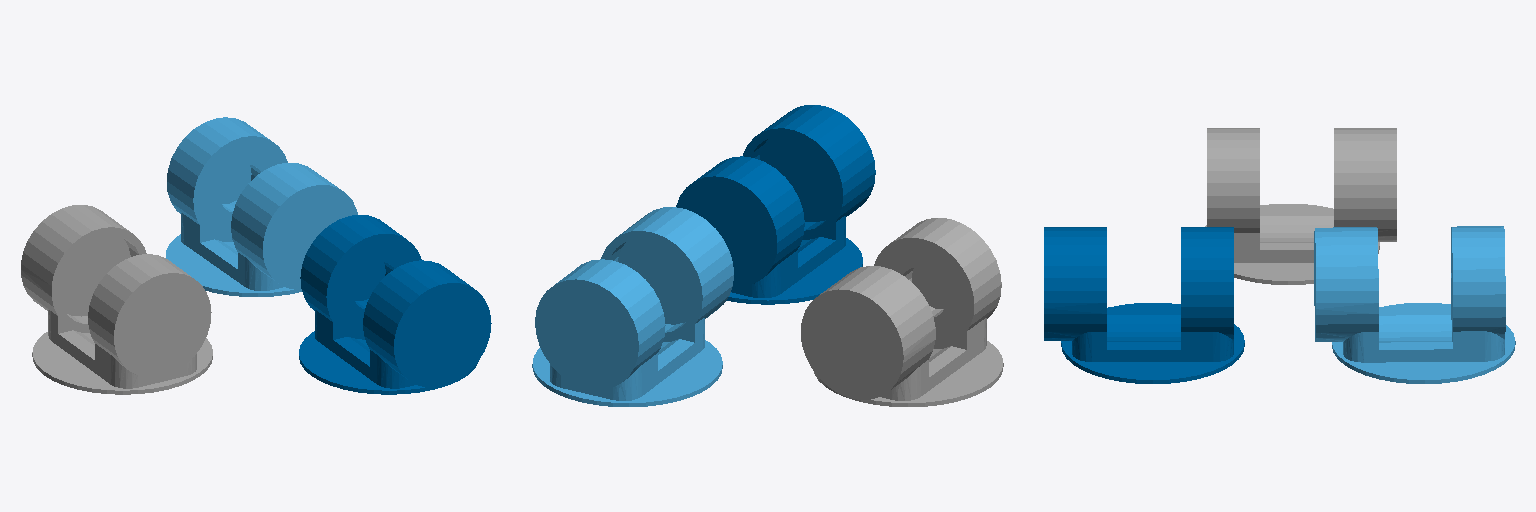
URDF robot description (sdh):
<?xml version="1.0"?>
<robot name="sdh"
	xmlns:sensor="http://playerstage.sourceforge.net/gazebo/xmlschema/#sensor"
	xmlns:controller="http://playerstage.sourceforge.net/gazebo/xmlschema/#controller"
	xmlns:interface="http://playerstage.sourceforge.net/gazebo/xmlschema/#interface">

	<!-- ################################################################################# -->
	<!-- add links-->
	
	<!-- palm -->
	<link name="link_palm">
		<inertial>
			<origin xyz="0 0 0" rpy="0 0 0"/>
			<mass value="1"/>
			<inertia ixx="1"  ixy="0"  ixz="0" iyy="1" iyz="0" izz="1" />
		</inertial>
		<visual>
			<origin xyz="0 0 0" rpy="0 0 0" />
			<geometry>
				<mesh filename="package://cob3_defs/common/files/meshes/palm.stl" />
			</geometry>
		</visual>
		<collision>
			<origin xyz="0 0 0" rpy="0 0 0" />
			<geometry>
				<mesh filename="package://cob3_defs/common/files/meshes/palm.stl"/>
			</geometry>
		</collision>
	</link>
	
	<!-- finger1 -->
	<link name="link_finger1-1">
		<inertial>
			<origin xyz="0 0 0" rpy="0 0 0"/>
			<mass value="0.1"/>
			<inertia ixx="1"  ixy="0"  ixz="0" iyy="1" iyz="0" izz="1" />
		</inertial>
		<visual>
			<origin xyz="0 0 0" rpy="0 0 0" />
			<geometry>
				<mesh filename="package://cob3_defs/common/files/meshes/knuckle.stl" />
			</geometry>
		</visual>
		<collision>
			<origin xyz="0 0 0" rpy="0 0 0" />
			<geometry>
				<mesh filename="package://cob3_defs/common/files/meshes/knuckle.stl"/>
			</geometry>
		</collision>
	</link>
	
	<link name="link_finger1-2">
		<inertial>
			<origin xyz="0 0 0" rpy="0 0 0"/>
			<mass value="0.1"/>
			<inertia ixx="1"  ixy="0"  ixz="0" iyy="1" iyz="0" izz="1" />
		</inertial>
		<visual>
			<origin xyz="0 0 0" rpy="0 0 0" />
			<geometry>
				<mesh filename="package://cob3_defs/common/files/meshes/finger.stl" />
			</geometry>
		</visual>
		<collision>
			<origin xyz="0 0 0" rpy="0 0 0" />
			<geometry>
				<mesh filename="package://cob3_defs/common/files/meshes/finger.stl"/>
			</geometry>
		</collision>
	</link>

	<link name="link_finger1-3">
		<inertial>
			<origin xyz="0 0 0" rpy="0 0 0"/>
			<mass value="0.1"/>
			<inertia ixx="1"  ixy="0"  ixz="0" iyy="1" iyz="0" izz="1" />
		</inertial>
		<visual>
			<origin xyz="0 0 0" rpy="0 0 0" />
			<geometry>
				<mesh filename="package://cob3_defs/common/files/meshes/finger_tip.stl" />
			</geometry>
		</visual>
		<collision>
			<origin xyz="0 0 0" rpy="0 0 0" />
			<geometry>
				<mesh filename="package://cob3_defs/common/files/meshes/finger_tip.stl"/>
			</geometry>
		</collision>
	</link>

	<!-- finger2 -->
	<link name="link_finger2-1">
		<inertial>
			<origin xyz="0 0 0" rpy="0 0 0"/>
			<mass value="0.1"/>
			<inertia ixx="1"  ixy="0"  ixz="0" iyy="1" iyz="0" izz="1" />
		</inertial>
		<visual>
			<origin xyz="0 0 0" rpy="0 0 0" />
			<geometry>
				<mesh filename="package://cob3_defs/common/files/meshes/knuckle.stl" />
			</geometry>
		</visual>
		<collision>
			<origin xyz="0 0 0" rpy="1.57079633 0 0" />
			<geometry>
				<mesh filename="package://cob3_defs/common/files/meshes/knuckle.stl"/>
			</geometry>
		</collision>
	</link>

	<link name="link_finger2-2">
		<inertial>
			<origin xyz="0 0 0" rpy="0 0 0"/>
			<mass value="0.1"/>
			<inertia ixx="1"  ixy="0"  ixz="0" iyy="1" iyz="0" izz="1" />
		</inertial>
		<visual>
			<origin xyz="0 0 0" rpy="0 0 0" />
			<geometry>
				<mesh filename="package://cob3_defs/common/files/meshes/finger.stl" />
			</geometry>
		</visual>
		<collision>
			<origin xyz="0 0 0" rpy="0 0 0" />
			<geometry>
				<mesh filename="package://cob3_defs/common/files/meshes/finger.stl"/>
			</geometry>
		</collision>
	</link>

	<link name="link_finger2-3">
		<inertial>
			<origin xyz="0 0 0" rpy="0 0 0"/>
			<mass value="0.1"/>
			<inertia ixx="1"  ixy="0"  ixz="0" iyy="1" iyz="0" izz="1" />
		</inertial>
		<visual>
			<origin xyz="0 0 0" rpy="0 0 0" />
			<geometry>
				<mesh filename="package://cob3_defs/common/files/meshes/finger_tip.stl" />
			</geometry>
		</visual>
		<collision>
			<origin xyz="0 0 0" rpy="0 0 0" />
			<geometry>
				<mesh filename="package://cob3_defs/common/files/meshes/finger_tip.stl"/>
			</geometry>
		</collision>
	</link>

	<!-- thumb -->
	<link name="link_thumb1">
		<inertial>
			<origin xyz="0 0 0" rpy="0 0 0"/>
			<mass value="0.1"/>
			<inertia ixx="1"  ixy="0"  ixz="0" iyy="1" iyz="0" izz="1" />
		</inertial>
		<visual>
			<origin xyz="0 0 0" rpy="0 0 0" />
			<geometry>
				<mesh filename="package://cob3_defs/common/files/meshes/knuckle.stl" />
			</geometry>
		</visual>
		<collision>
			<origin xyz="0 0 0" rpy="0 0 0" />
			<geometry>
				<mesh filename="package://cob3_defs/common/files/meshes/knuckle.stl"/>
			</geometry>
		</collision>
	</link>

	<link name="link_thumb2">
		<inertial>
			<origin xyz="0 0 0" rpy="0 0 0"/>
			<mass value="0.1"/>	
			<inertia ixx="1"  ixy="0"  ixz="0" iyy="1" iyz="0" izz="1" />
		</inertial>
		<visual>
			<origin xyz="0 0 0" rpy="0 0 0" />
			<geometry>
				<mesh filename="package://cob3_defs/common/files/meshes/finger.stl" />
			</geometry>
		</visual>
		<collision>
			<origin xyz="0 0 0" rpy="0 0 0" />
			<geometry>
				<mesh filename="package://cob3_defs/common/files/meshes/finger.stl"/>
			</geometry>
		</collision>
	</link>
	
	<link name="link_thumb3">
		<inertial>
			<origin xyz="0 0 0" rpy="0 0 0"/>
			<mass value="0.1"/>
			<inertia ixx="1"  ixy="0"  ixz="0" iyy="1" iyz="0" izz="1" />
		</inertial>
		<visual>
			<origin xyz="0 0 0" rpy="0 0 0" />
			<geometry>
				<mesh filename="package://cob3_defs/common/files/meshes/finger_tip.stl" />
			</geometry>
		</visual>
		<collision>
			<origin xyz="0 0 0" rpy="0 0 0" />
			<geometry>
				<mesh filename="package://cob3_defs/common/files/meshes/finger_tip.stl"/>
			</geometry>
		</collision>
	</link>
	
	<!-- define colors for links -->
	<gazebo reference="link_palm">
		<material>Gazebo/Grey</material>
		<turnGravityOff>false</turnGravityOff>
	</gazebo>
	
	<gazebo reference="link_finger1-1">
		<material>Gazebo/Black</material>
		<turnGravityOff>false</turnGravityOff>
	</gazebo>
	
	<gazebo reference="link_finger1-2">
		<material>Gazebo/Red</material>
		<turnGravityOff>false</turnGravityOff>
	</gazebo>
	
	<gazebo reference="link_finger1-3">
		<material>Gazebo/Blue</material>
		<turnGravityOff>false</turnGravityOff>
	</gazebo>

	<gazebo reference="link_finger2-1">
		<material>Gazebo/Black</material>
		<turnGravityOff>false</turnGravityOff>
	</gazebo>

	<gazebo reference="link_finger2-2">
		<material>Gazebo/Red</material>
		<turnGravityOff>false</turnGravityOff>
	</gazebo>

	<gazebo reference="link_finger2-3">
		<material>Gazebo/Blue</material>
		<turnGravityOff>false</turnGravityOff>
	</gazebo>

	<gazebo reference="link_thumb1">
		<material>Gazebo/Black</material>
		<turnGravityOff>false</turnGravityOff>
	</gazebo>
	
	<gazebo reference="link_thumb2">
		<material>Gazebo/Red</material>
		<turnGravityOff>false</turnGravityOff>
	</gazebo>

	<gazebo reference="link_thumb3">
		<material>Gazebo/Blue</material>
		<turnGravityOff>false</turnGravityOff>
	</gazebo>

	<!-- ################################################################################# -->
	<!-- add joints -->

	<!-- palm -->

	<!-- finger1 -->
	<joint name="joint_palm_finger1-1" type="revolute">
		<origin xyz="0.01905 0.033 0.0745" rpy="0 0 3.159265" />
		<parent link="link_palm"/>
		<child link="link_finger1-1"/>
		<axis xyz="0 0 1" />
	    <calibration reference_position="0.0"/>
		<limit effort="100" velocity="1.0" upper="0.5" lower="-0.5" /> <!-- rads. effort is N-m applied force. vel is rad/s. -->
	</joint>
 
	<joint name="joint_finger1-1_finger1-2" type="revolute">
		<origin xyz="0 0 0.0165" rpy="0 0 0" />
		<parent link="link_finger1-1"/>
		<child link="link_finger1-2"/>
		<axis xyz="0 1 0" />
	    <calibration reference_position="0.0"/>
		<limit effort="100" velocity="1.0" upper="0.5" lower="-0.5" /> <!-- rads. effort is N-m applied force. vel is rad/s. -->
	</joint>
 
	<joint name="joint_finger1-2_finger1-3" type="revolute">
		<origin xyz="0 0 0.0865" rpy="0 0 0" />
		<parent link="link_finger1-2"/>
		<child link="link_finger1-3"/>
		<axis xyz="0 1 0" />
	    <calibration reference_position="0.0"/>
		<limit effort="100" velocity="1.0" upper="0.5" lower="-0.5" /> <!-- rads. effort is N-m applied force. vel is rad/s. -->
	</joint>
 
	<!-- finger2 -->
	<joint name="joint_palm_finger2-1" type="revolute">
		<origin xyz="0.01905 -0.033 0.0745" rpy="0 0 3.14159265" />
		<parent link="link_palm"/>
		<child link="link_finger2-1"/>
		<axis xyz="0 0 1" />
	    <calibration reference_position="0.0"/>
		<limit effort="100" velocity="1.0" upper="0.5" lower="-0.5" /> <!-- rads. effort is N-m applied force. vel is rad/s. -->
	</joint>
 
	<joint name="joint_finger2-1_finger2-2" type="revolute">
		<origin xyz="0 0 0.0165" rpy="0 0 0" />
		<parent link="link_finger2-1"/>
		<child link="link_finger2-2"/>
		<axis xyz="0 1 0" />
	    <calibration reference_position="0.0"/>
		<limit effort="100" velocity="1.0" upper="0.5" lower="-0.5" /> <!-- rads. effort is N-m applied force. vel is rad/s. -->
	</joint>
 
	<joint name="joint_finger2-2_finger2-3" type="revolute">
		<origin xyz="0 0 0.0865" rpy="0 0 0" />
		<parent link="link_finger2-2"/>
		<child link="link_finger2-3"/>
		<axis xyz="0 1 0" />
	    <calibration reference_position="0.0"/>
		<limit effort="100" velocity="1.0" upper="0.5" lower="-0.5" /> <!-- rads. effort is N-m applied force. vel is rad/s. -->
	</joint>
 
	<!-- thumb -->
	<joint name="joint_palm_thumb1" type="revolute">
		<origin xyz="-0.03811 0 0.0745 " rpy="0 0 0" />
		<parent link="link_palm"/>
		<child link="link_thumb1"/>
		<axis xyz="0 0 1" />
	    <calibration reference_position="0.0"/>
		<limit effort="100" lower="-1" upper="1" velocity="5"/> <!-- rads. effort is N-m applied force. vel is rad/s. -->
	</joint>
 
	<joint name="joint_thumb1_thumb2" type="revolute">
		<origin xyz="0 0 0.0165" rpy="0 0 0" />
		<parent link="link_thumb1"/>
		<child link="link_thumb2"/>
		<axis xyz="0 1 0" />
	    <calibration reference_position="0.0"/>
		<limit effort="100" lower="-1" upper="1" velocity="5"/> <!-- rads. effort is N-m applied force. vel is rad/s. -->
	</joint>
 
	<joint name="joint_thumb2_thumb3" type="revolute">
		<origin xyz="0 0 0.0865" rpy="0 0 0" />
		<parent link="link_thumb2"/>
		<child link="link_thumb3"/>
		<axis xyz="0 1 0" />
	    <calibration reference_position="0.0"/>
		<limit effort="100" lower="-1" upper="1" velocity="5"/> <!-- rads. effort is N-m applied force. vel is rad/s. -->
	</joint>

	<!-- ################################################################################# -->
	<!-- add transmissions -->
	
	<!-- finger1 -->
	<transmission name="trans_palm_finger1-1" type="SimpleTransmission">
		<actuator name="motor_palm_finger1-1"/>
		<joint name="joint_palm_finger1-1"/>
		<mechanicalReduction>1</mechanicalReduction>
	</transmission>
	
	<transmission name="trans_finger1-1_finger1-2" type="SimpleTransmission">
		<actuator name="motor_finger1-1_finger1-2"/>
		<joint name="joint_finger1-1_finger1-2"/>
		<mechanicalReduction>1</mechanicalReduction>
	</transmission>
	
	<transmission name="trans_finger1-2_finger1-3" type="SimpleTransmission">
		<actuator name="motor_finger1-2_finger1-3"/>
		<joint name="joint_finger1-2_finger1-3"/>
		<mechanicalReduction>1</mechanicalReduction>
	</transmission>
	
	<!-- finger2 -->
	<transmission name="trans_palm_finger2-1" type="SimpleTransmission">
		<actuator name="motor_palm_finger2-1"/>
		<joint name="joint_palm_finger2-1"/>
		<mechanicalReduction>1</mechanicalReduction>
	</transmission>
	
	<transmission name="trans_finger2-1_finger2-2" type="SimpleTransmission">
		<actuator name="motor_finger2-1_finger2-2"/>
		<joint name="joint_finger2-1_finger2-2"/>
		<mechanicalReduction>1</mechanicalReduction>
	</transmission>
	
	<transmission name="trans_finger2-2_finger2-3" type="SimpleTransmission">
		<actuator name="motor_finger2-2_finger2-3"/>
		<joint name="joint_finger2-2_finger2-3"/>
		<mechanicalReduction>1</mechanicalReduction>
	</transmission>
	
	<!-- thumb -->
	<transmission name="trans_palm_thumb1" type="SimpleTransmission">
		<actuator name="motor_palm_thumb1"/>
		<joint name="joint_palm_thumb1"/>
		<mechanicalReduction>1</mechanicalReduction>
	</transmission>
	
	<transmission name="trans_thumb1_thumb2" type="SimpleTransmission">
		<actuator name="motor_thumb1_thumb2"/>
		<joint name="joint_thumb1_thumb2"/>
		<mechanicalReduction>1</mechanicalReduction>
	</transmission>
	
	<transmission name="trans_thumb2_thumb3" type="SimpleTransmission">
		<actuator name="motor_thumb2_thumb3"/>
		<joint name="joint_thumb2_thumb3"/>
		<mechanicalReduction>1</mechanicalReduction>
	</transmission>

</robot>

--- Render facts (derived) ---
3 views of the same robot in one strip: view 1: azimuth 30°, elevation 25°; view 2: azimuth 150°, elevation 25°; view 3: azimuth 270°, elevation 25° (orthographic).
Model sdh with 10 links and 9 joints (9 revolute), rooted at link_palm, posed all joints at 0.
Visible links, largest first — view 1: link_thumb1, link_finger2-1, link_finger1-1; view 2: link_finger1-1, link_thumb1, link_finger2-1; view 3: link_finger1-1, link_finger2-1, link_thumb1.
Link boxes in pixels (x1=…): link_thumb1: x1=21, y1=205, x2=212, y2=394; link_finger2-1: x1=299, y1=215, x2=491, y2=394; link_finger1-1: x1=166, y1=117, x2=357, y2=296; link_finger1-1: x1=532, y1=207, x2=733, y2=406; link_thumb1: x1=801, y1=218, x2=1003, y2=406; link_finger2-1: x1=676, y1=105, x2=875, y2=304; link_finger1-1: x1=1314, y1=226, x2=1515, y2=383; link_finger2-1: x1=1044, y1=227, x2=1244, y2=383; link_thumb1: x1=1205, y1=128, x2=1396, y2=284.
Bounding box of the posed robot: 0.102 × 0.1148 × 0.0315 m (x, y, z).
3 mesh visuals loaded from 4 distinct referenced files (1 binary STL); not drawn: 7 (reference not matched to a file when rendering).